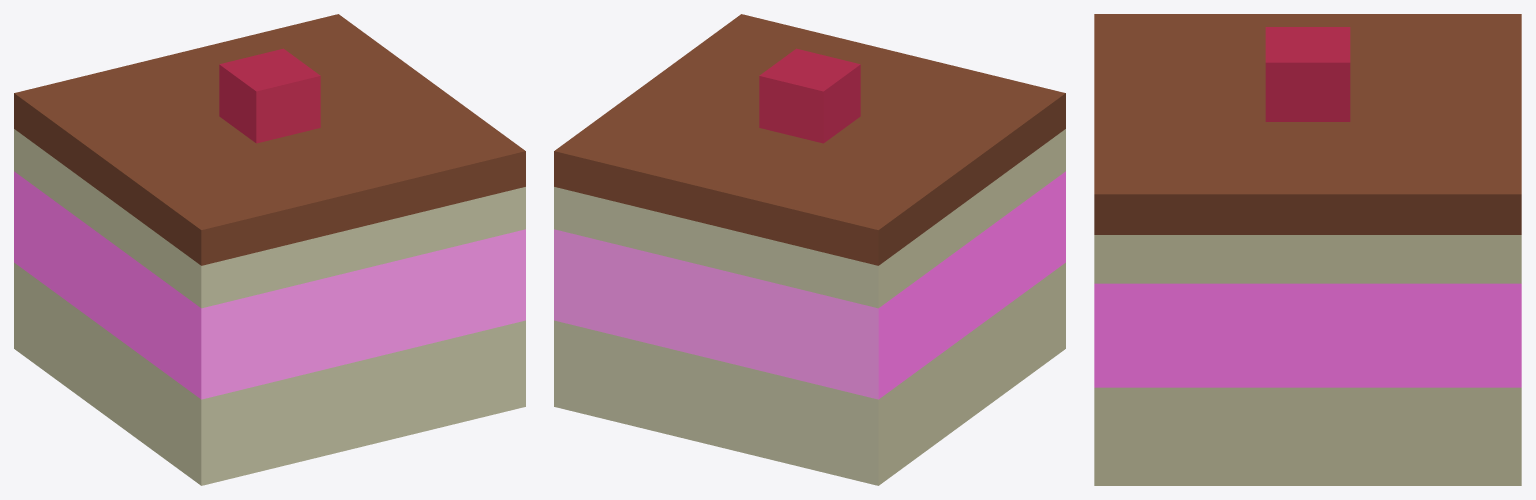
The model's file is Cake3.glb.
3 views of the same model, side by side, from view 1: azimuth 30°, elevation 25°; view 2: azimuth 150°, elevation 25°; view 3: azimuth 270°, elevation 25° (orthographic). The views are drawn at different scales.
Visible parts, largest first — view 1: SI_Food_Bakery_Cake_03; view 2: SI_Food_Bakery_Cake_03; view 3: SI_Food_Bakery_Cake_03.
Part boxes in pixels (bbox=[...]): SI_Food_Bakery_Cake_03: bbox=[14, 14, 525, 485]; SI_Food_Bakery_Cake_03: bbox=[554, 14, 1065, 485]; SI_Food_Bakery_Cake_03: bbox=[1094, 14, 1521, 485].
Size of the model in its own units: 0.00408 by 0.0037 by 0.00408.
1 material, 1 textured.
